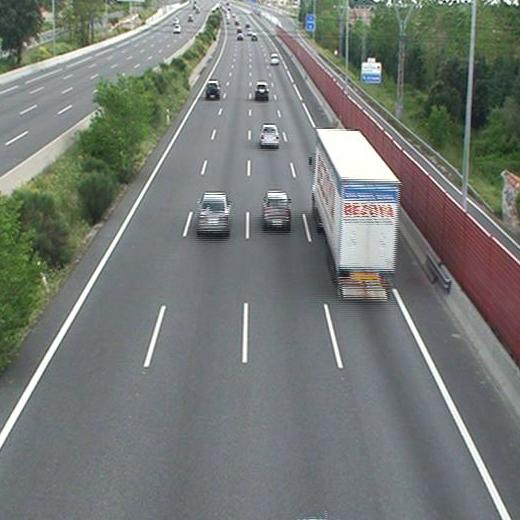car: (197, 194, 229, 232), (263, 192, 291, 227), (259, 125, 280, 145), (205, 81, 221, 97), (255, 83, 269, 96), (271, 53, 279, 63)
truck: (313, 129, 399, 301)
